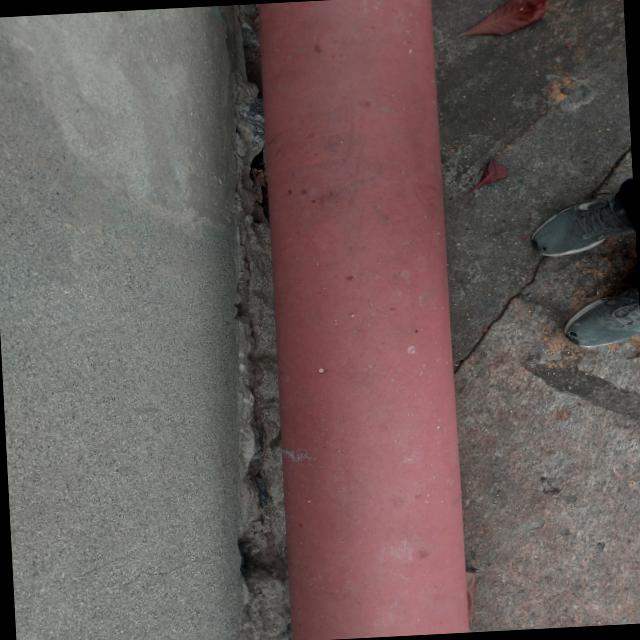gas: (257, 0, 473, 638)
